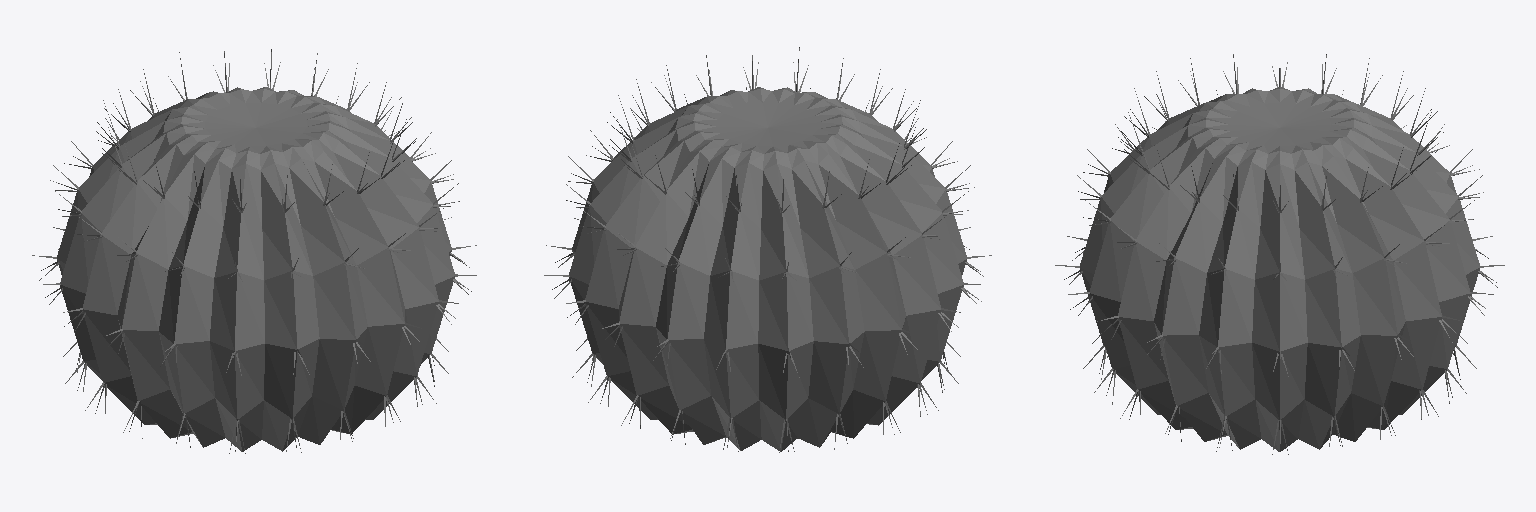
The model's file is pawn.obj.
3 views of the same model, side by side, from view 1: azimuth 30°, elevation 25°; view 2: azimuth 150°, elevation 25°; view 3: azimuth 270°, elevation 25° (orthographic).
Parts seen in each view (by area): view 1: BarrelCactus; view 2: BarrelCactus; view 3: BarrelCactus.
Boxes of the visible parts, x1,y1,x2,y2 form: BarrelCactus: [32, 49, 476, 453]; BarrelCactus: [544, 47, 991, 452]; BarrelCactus: [1055, 54, 1504, 454].
Size of the model in its own units: 0.6922 by 0.502 by 0.6922.